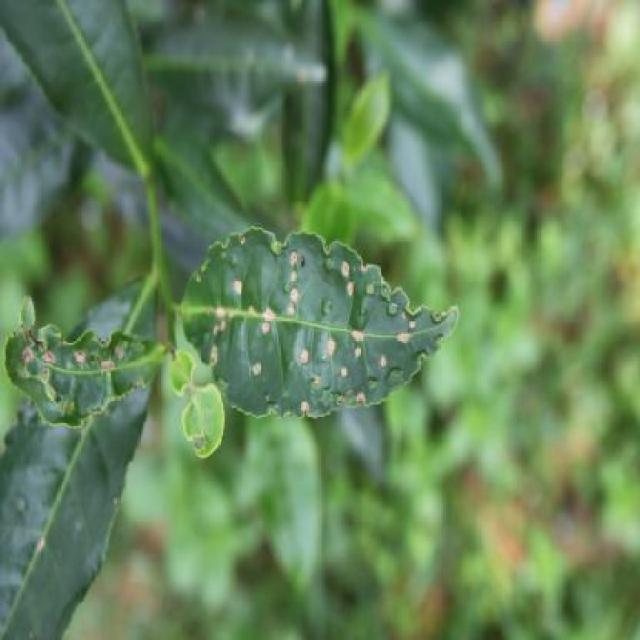Tea Mosquito bug infested leaf: (178, 228, 456, 423), (4, 296, 168, 430)
